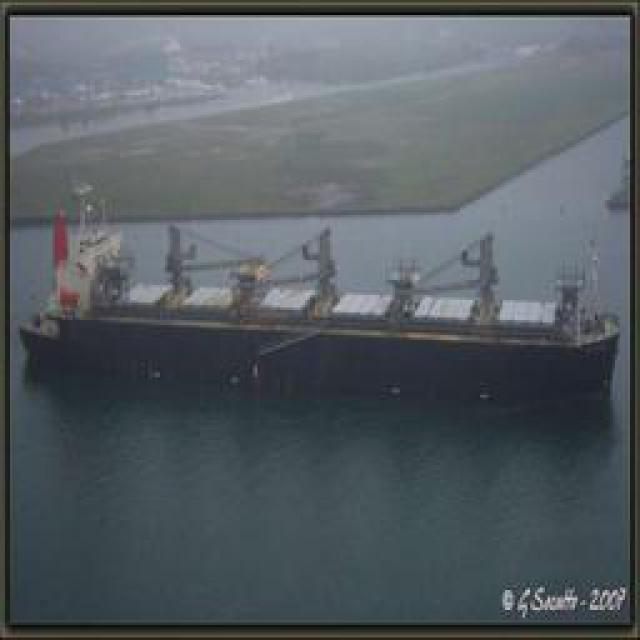Ship: (30, 213, 623, 408)
